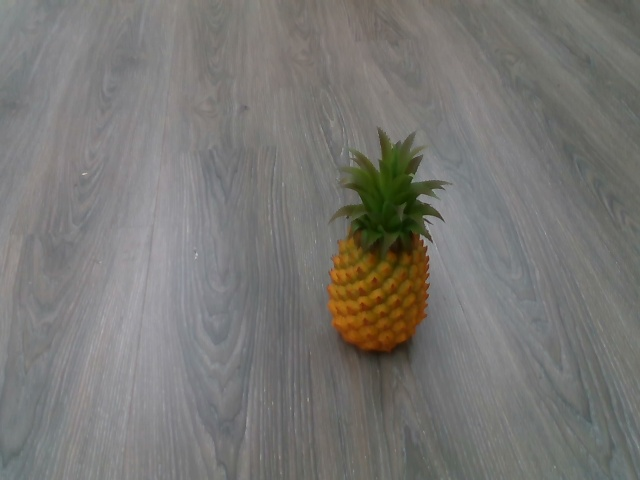pineapple: (324, 124, 453, 358)
